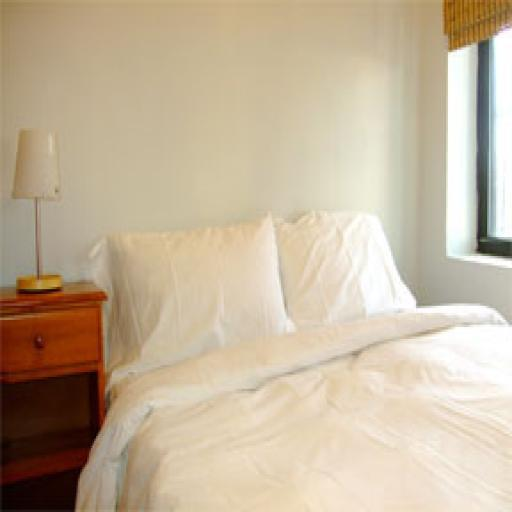bed: (103, 194, 512, 502)
